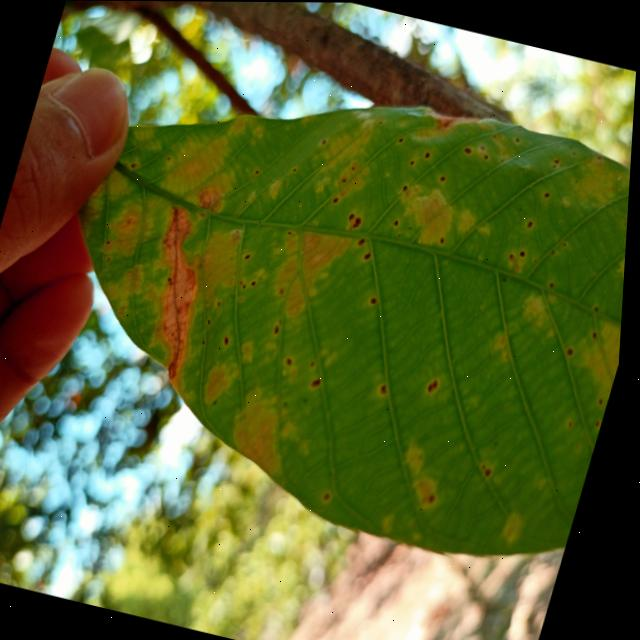Leaf-Blight: (128, 201, 227, 380)
